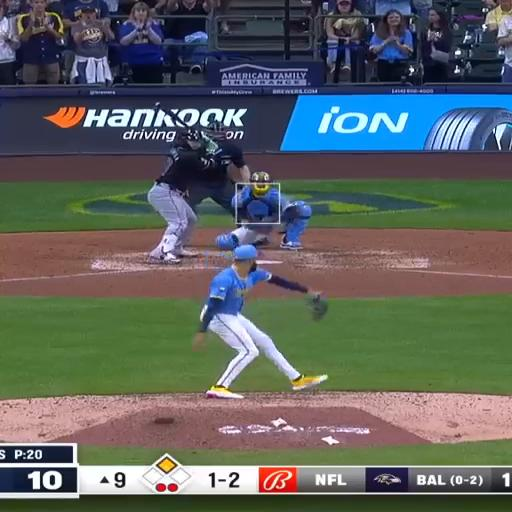bat: (153, 102, 188, 127)
